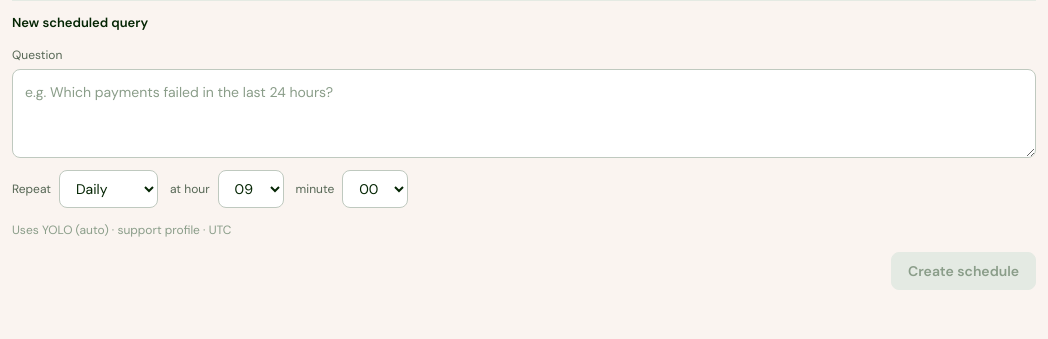
Test case: ScheduleForm › shows the server error and keeps the question
Type "One more" into the text box labelled "Question". click: [524, 114]
box: [12,69,1036,158]
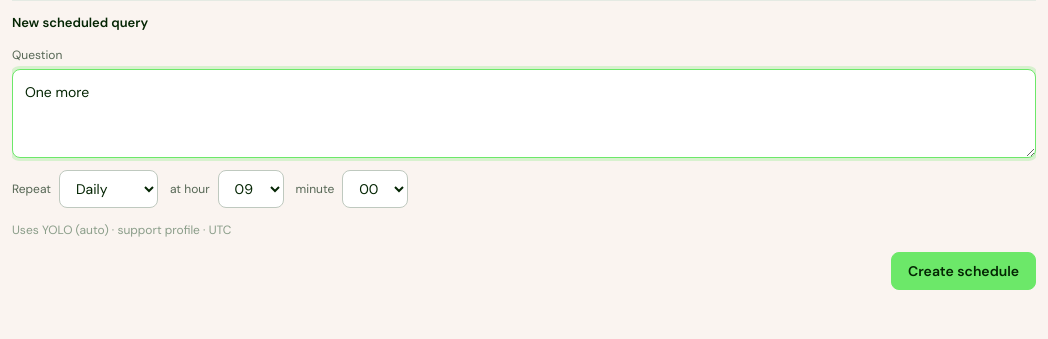
Click the button "Create schedule". click: [963, 271]
box: [891,252,1036,290]
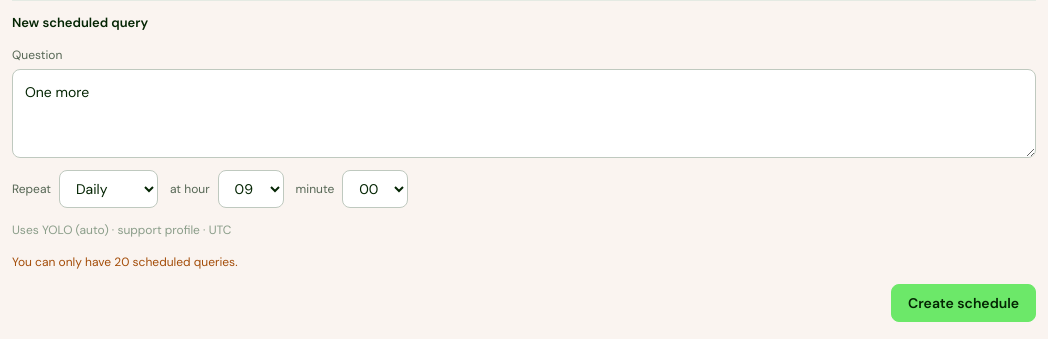
Expected: the text "You can only have 20 scheduled queries." is shown, [12,254,238,270]
